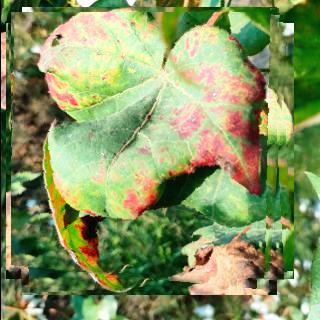blight: (10, 12, 288, 290)
